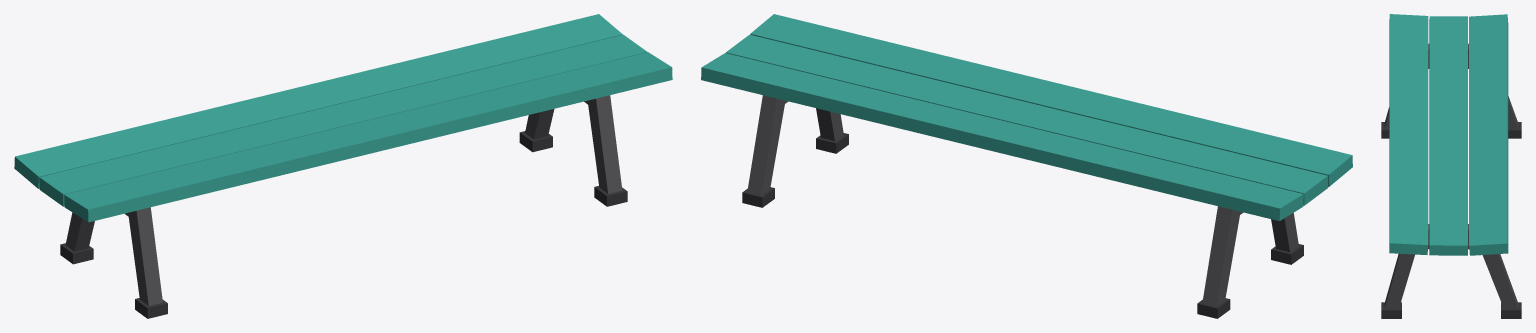
Rendered from Bench2_a_LP_LOD0.FBX.
3 renders of one model, left to right at view 1: azimuth 30°, elevation 25°; view 2: azimuth 150°, elevation 25°; view 3: azimuth 270°, elevation 25°, orthographic. The views are drawn at different scales.
Parts seen in each view (by area): view 1: Bench2_a_LP_LOD0; view 2: Bench2_a_LP_LOD0; view 3: Bench2_a_LP_LOD0.
Part boxes in pixels (<box>): Bench2_a_LP_LOD0: <box>14,14,672,318</box>; Bench2_a_LP_LOD0: <box>701,14,1352,318</box>; Bench2_a_LP_LOD0: <box>1381,14,1521,318</box>.
Bounding box in the file's own units: 3.53 × 0.6852 × 0.9145.
